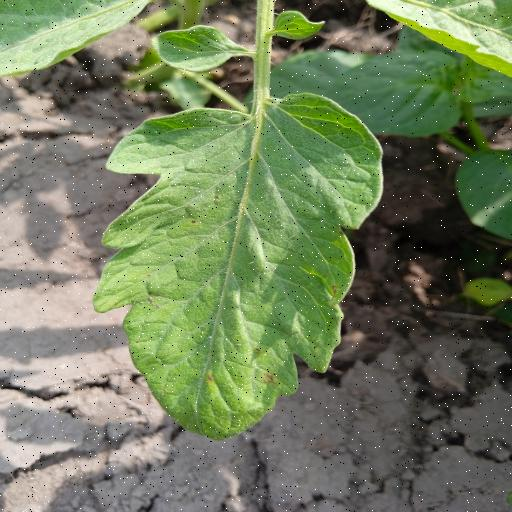Tomato_Mildiou: (88, 89, 394, 444)
